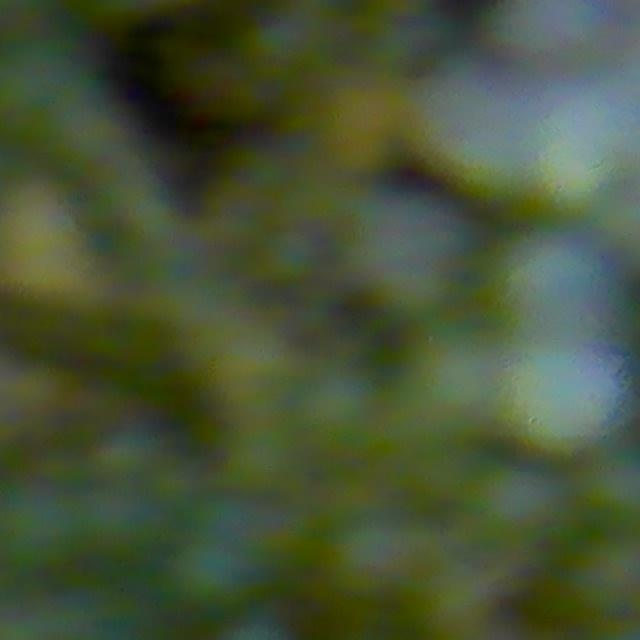SeaGrape: (335, 185, 463, 318), (494, 334, 625, 463), (393, 325, 506, 443), (495, 227, 608, 337), (327, 512, 426, 604), (465, 459, 563, 550), (293, 362, 383, 454), (498, 0, 616, 59), (169, 534, 253, 613), (570, 533, 639, 621), (583, 442, 639, 531)
